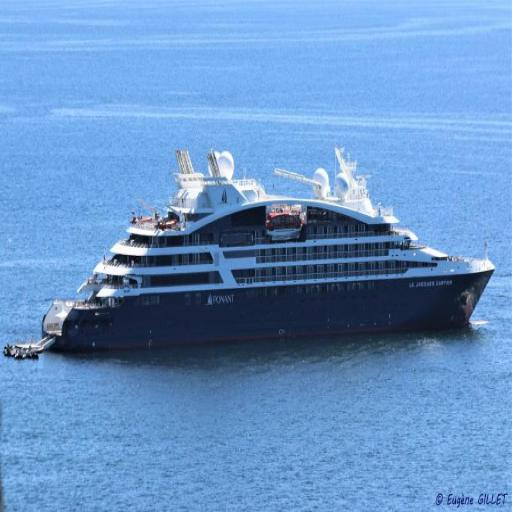cruises: (38, 135, 501, 357)
